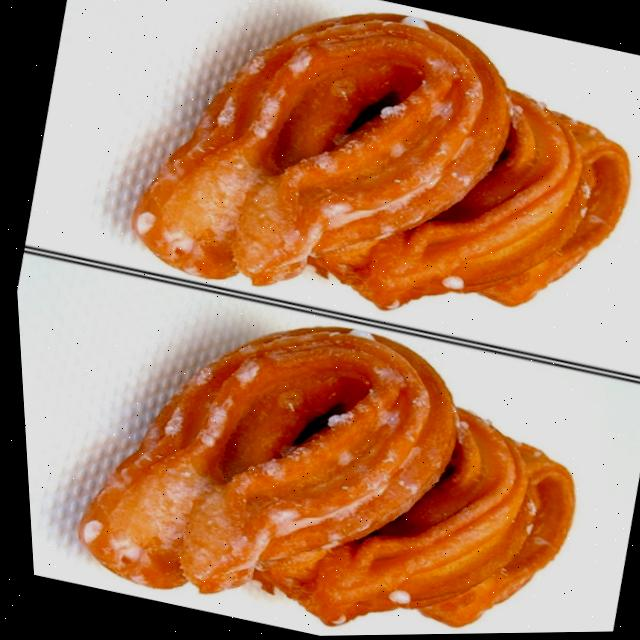炸货点心: (12, 255, 640, 640)
